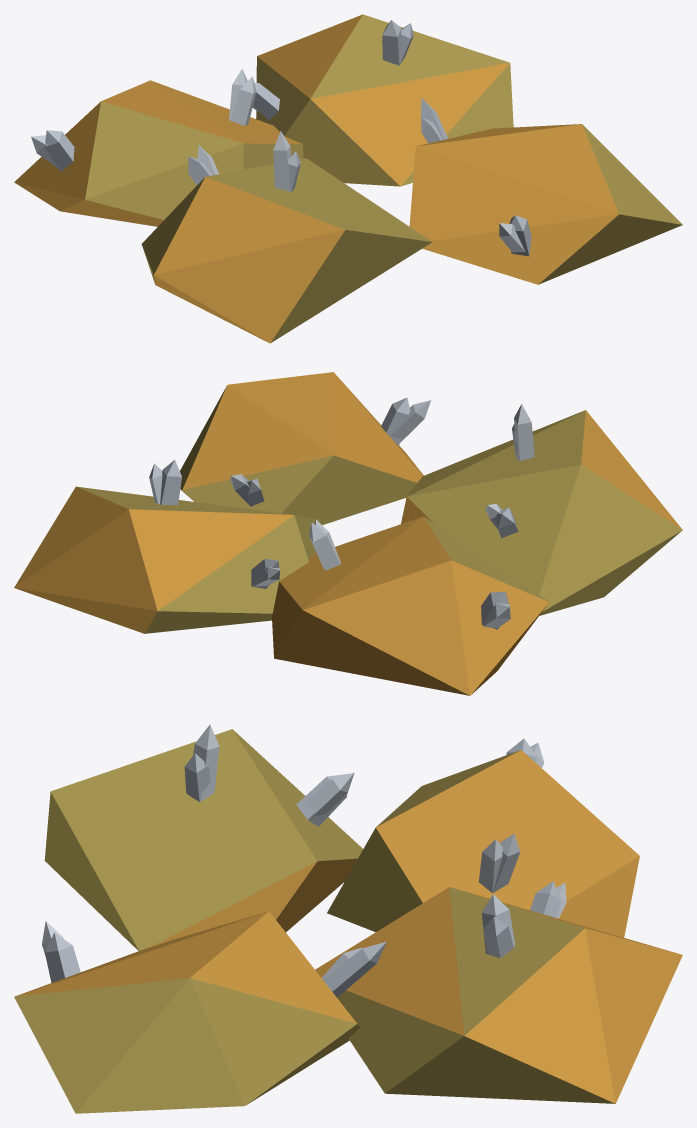
File: minerai_zinc_1.glb
The picture shows the model from 3 angles, top to bottom: view 1: azimuth 30°, elevation 25°; view 2: azimuth 150°, elevation 25°; view 3: azimuth 270°, elevation 25°; orthographic projection. The views are drawn at different scales.
Visible parts, largest first — view 1: minerai_zinc_miel.004, minerai_zinc_roche.004, minerai_gris_clair.008, minerai_zinc_metal.004; view 2: minerai_zinc_miel.004, minerai_zinc_roche.004, minerai_gris_clair.008, minerai_zinc_metal.004; view 3: minerai_zinc_roche.004, minerai_zinc_miel.004, minerai_gris_clair.008, minerai_zinc_metal.004.
Boxes of the visible parts, x1=… form: minerai_zinc_miel.004: x1=14, y1=14, x2=618, y2=343; minerai_zinc_roche.004: x1=85, y1=14, x2=682, y2=342; minerai_gris_clair.008: x1=44, y1=20, x2=531, y2=256; minerai_zinc_metal.004: x1=31, y1=68, x2=525, y2=252; minerai_zinc_miel.004: x1=14, y1=372, x2=682, y2=695; minerai_zinc_roche.004: x1=77, y1=386, x2=682, y2=633; minerai_gris_clair.008: x1=149, y1=397, x2=518, y2=629; minerai_zinc_metal.004: x1=254, y1=400, x2=534, y2=628; minerai_zinc_roche.004: x1=14, y1=729, x2=615, y2=1113; minerai_zinc_miel.004: x1=15, y1=750, x2=682, y2=1103; minerai_gris_clair.008: x1=45, y1=738, x2=561, y2=997; minerai_zinc_metal.004: x1=42, y1=724, x2=566, y2=954.
Bounding box in the file's own units: 0.5432 × 0.1546 × 0.5112.
